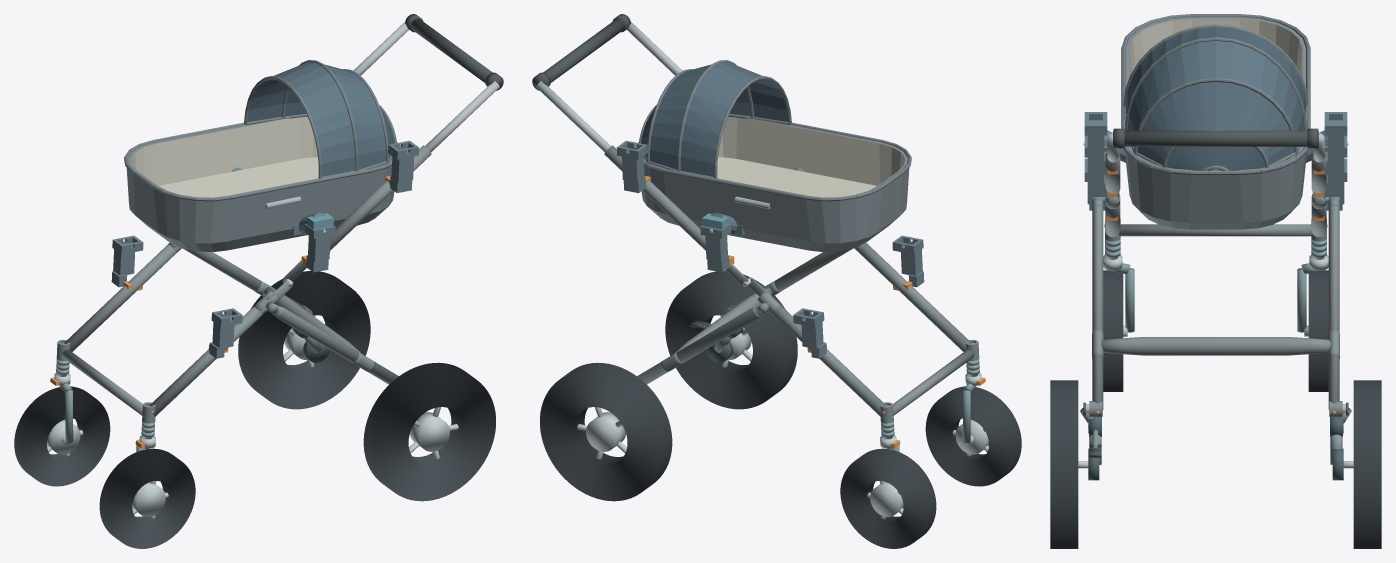
Rendered from S06_w550_state1_wheel_L.glb.
3 renders of one model, left to right at view 1: azimuth 30°, elevation 25°; view 2: azimuth 150°, elevation 25°; view 3: azimuth 270°, elevation 25°, orthographic. The views are drawn at different scales.
Parts seen in each view (by area): view 1: S06_Cabin, RL_tire.002, RR_tire.002, FL_tire.002, FR_tire.002, main_lower_1.003, V46_rear_leg_-1.003, main_lower_-1.003, round_handle.002, main_upper_-1.003, Universal_Cabin_Receiver_H_-1, RL_sealed_hub.002 (+11 smaller); view 2: S06_Cabin, RR_tire.002, RL_tire.002, FR_tire.002, FL_tire.002, main_lower_-1.003, V46_rear_leg_1.003, main_lower_1.003, round_handle.002, main_upper_1.003, Universal_Cabin_Receiver_H_1, RR_sealed_hub.002 (+11 smaller); view 3: S06_Cabin, RL_tire.002, RR_tire.002, V46_rearbar.003, round_handle.002, FL_tire.002, FR_tire.002, V46_rear_leg_1.003, V46_rear_leg_-1.003, front_fixed_round_tube.002, Universal_Cabin_Receiver_H_1, Universal_Cabin_Receiver_H_-1 (+8 smaller).
Boxes of the visible parts, x1=… form: S06_Cabin: x1=124, y1=60, x2=400, y2=251; RL_tire.002: x1=363, y1=362, x2=495, y2=501; RR_tire.002: x1=238, y1=271, x2=370, y2=409; FL_tire.002: x1=99, y1=448, x2=195, y2=548; FR_tire.002: x1=14, y1=386, x2=110, y2=486; main_lower_1.003: x1=64, y1=244, x2=180, y2=351; V46_rear_leg_-1.003: x1=274, y1=306, x2=398, y2=384; main_lower_-1.003: x1=149, y1=306, x2=265, y2=416; round_handle.002: x1=411, y1=18, x2=502, y2=89; main_upper_-1.003: x1=330, y1=145, x2=431, y2=250; Universal_Cabin_Receiver_H_-1: x1=388, y1=140, x2=419, y2=192; RL_sealed_hub.002: x1=410, y1=412, x2=449, y2=451; S06_Cabin: x1=635, y1=60, x2=911, y2=251; RR_tire.002: x1=540, y1=362, x2=672, y2=501; RL_tire.002: x1=665, y1=271, x2=797, y2=409; FR_tire.002: x1=840, y1=448, x2=936, y2=548; FL_tire.002: x1=925, y1=386, x2=1021, y2=486; main_lower_-1.003: x1=855, y1=244, x2=971, y2=351; V46_rear_leg_1.003: x1=637, y1=306, x2=761, y2=384; main_lower_1.003: x1=770, y1=306, x2=886, y2=416; round_handle.002: x1=533, y1=18, x2=624, y2=89; main_upper_1.003: x1=604, y1=145, x2=705, y2=250; Universal_Cabin_Receiver_H_1: x1=616, y1=140, x2=647, y2=192; RR_sealed_hub.002: x1=586, y1=412, x2=625, y2=451; S06_Cabin: x1=1121, y1=14, x2=1310, y2=229; RL_tire.002: x1=1050, y1=380, x2=1078, y2=548; RR_tire.002: x1=1353, y1=380, x2=1381, y2=548; V46_rearbar.003: x1=1101, y1=337, x2=1330, y2=355; round_handle.002: x1=1113, y1=130, x2=1318, y2=146; FL_tire.002: x1=1103, y1=270, x2=1123, y2=391; FR_tire.002: x1=1308, y1=270, x2=1328, y2=391; V46_rear_leg_1.003: x1=1328, y1=204, x2=1339, y2=410; V46_rear_leg_-1.003: x1=1092, y1=204, x2=1103, y2=410; front_fixed_round_tube.002: x1=1118, y1=224, x2=1313, y2=236; Universal_Cabin_Receiver_H_1: x1=1324, y1=112, x2=1347, y2=174; Universal_Cabin_Receiver_H_-1: x1=1084, y1=112, x2=1107, y2=174.
Size of the model in its own units: 1.19 by 1.12 by 0.7071.
